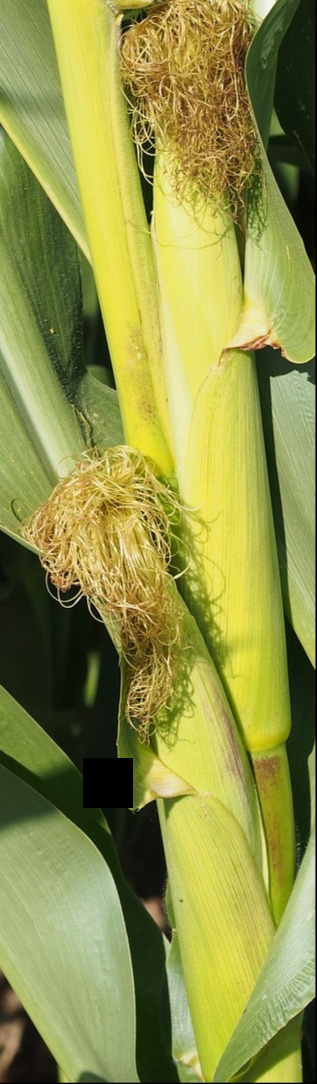corn_plant: (36, 479, 292, 1082), (112, 8, 299, 784)
